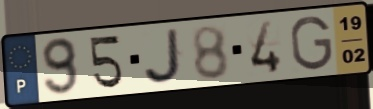4: (248, 19, 284, 76)
5: (87, 35, 126, 91)
8: (190, 23, 231, 81)
9: (38, 35, 81, 98)
G: (288, 14, 335, 73)
J: (141, 26, 187, 87)
